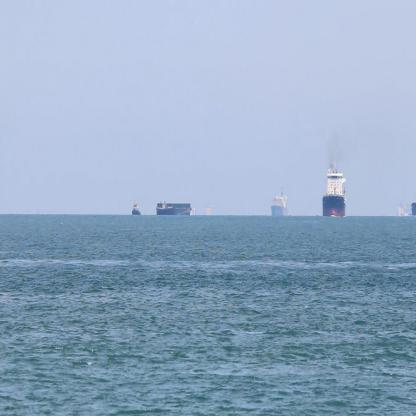Container Ship: (321, 159, 348, 220), (270, 185, 290, 221), (155, 199, 193, 217), (130, 198, 143, 218)
